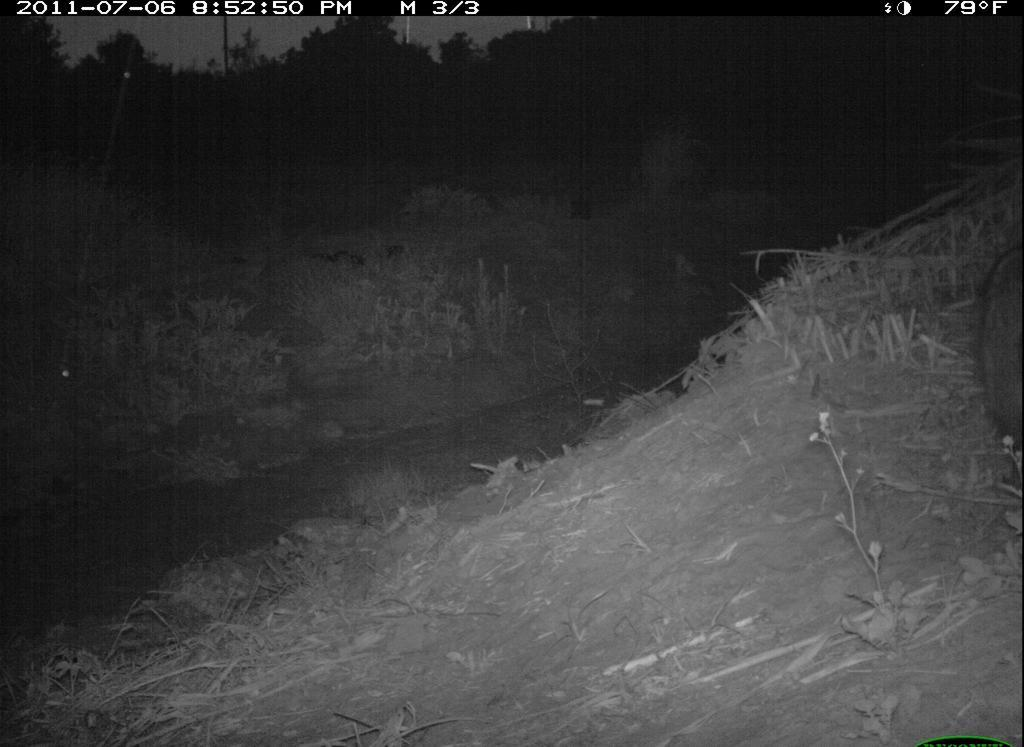raccoon: (976, 235, 1023, 474)
